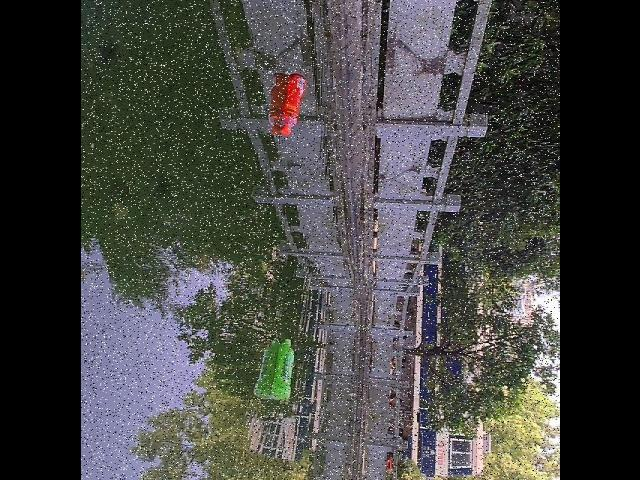Bottle: (270, 68, 310, 146), (261, 334, 297, 404)
